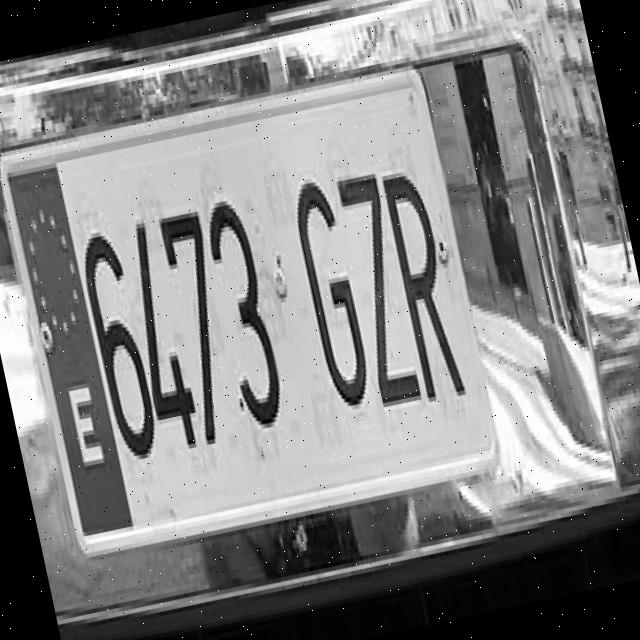EU: (0, 54, 508, 568)
Espagne: (8, 165, 134, 536)
